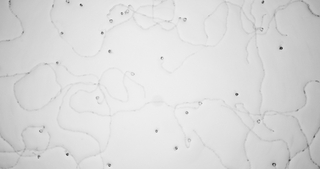germinated: (254, 25, 265, 33), (126, 69, 136, 77), (94, 95, 102, 105), (123, 5, 131, 14), (255, 115, 264, 123), (186, 137, 193, 147), (179, 15, 187, 23), (106, 14, 113, 23), (158, 55, 165, 63), (196, 100, 202, 109), (38, 126, 45, 133)
nongerminated: (172, 143, 179, 150), (277, 44, 283, 51), (233, 91, 239, 98), (270, 161, 277, 167), (98, 30, 105, 36), (78, 2, 84, 9), (153, 128, 160, 134), (105, 161, 112, 167), (183, 109, 189, 116), (106, 48, 112, 54), (59, 30, 65, 36), (64, 152, 70, 158), (35, 154, 41, 160), (259, 0, 265, 5), (54, 60, 59, 65)
